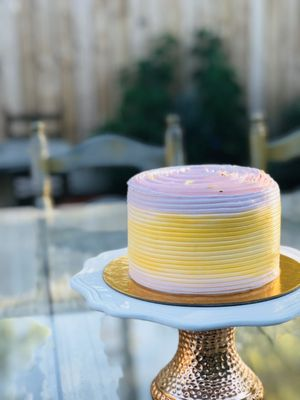burger: (162, 113, 188, 166)
